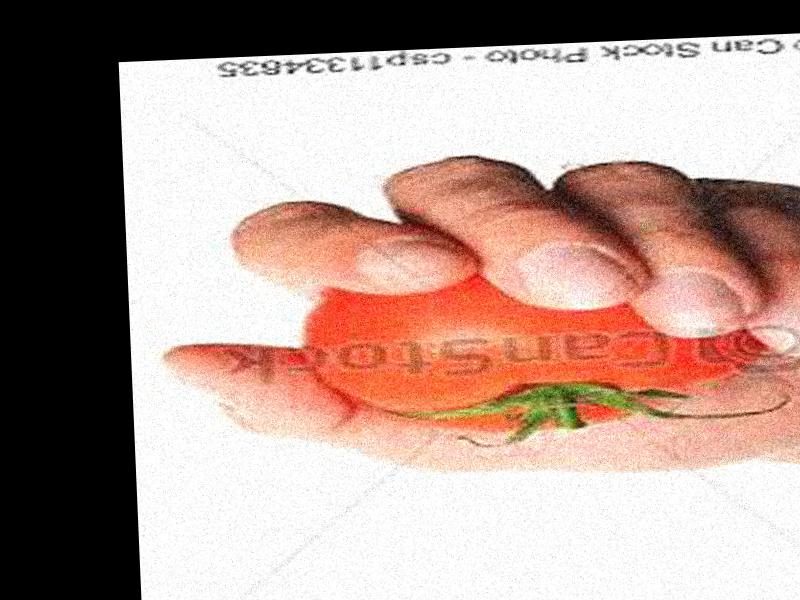Tomato: (302, 266, 763, 436)
